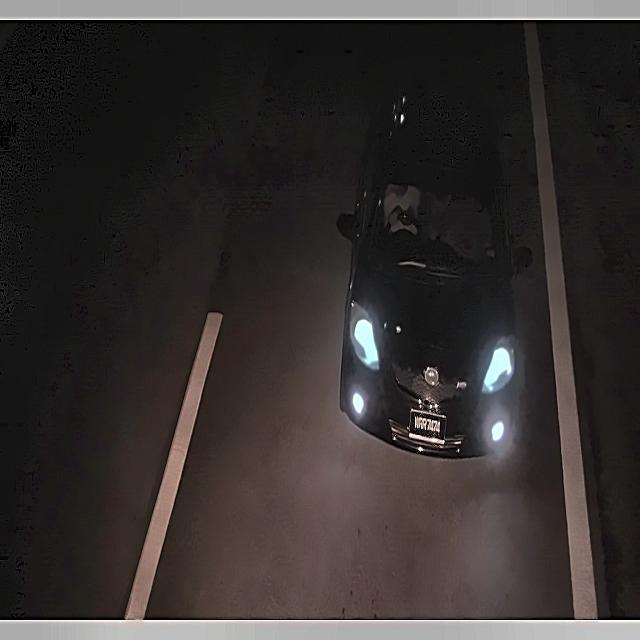car: (407, 402, 446, 445)
